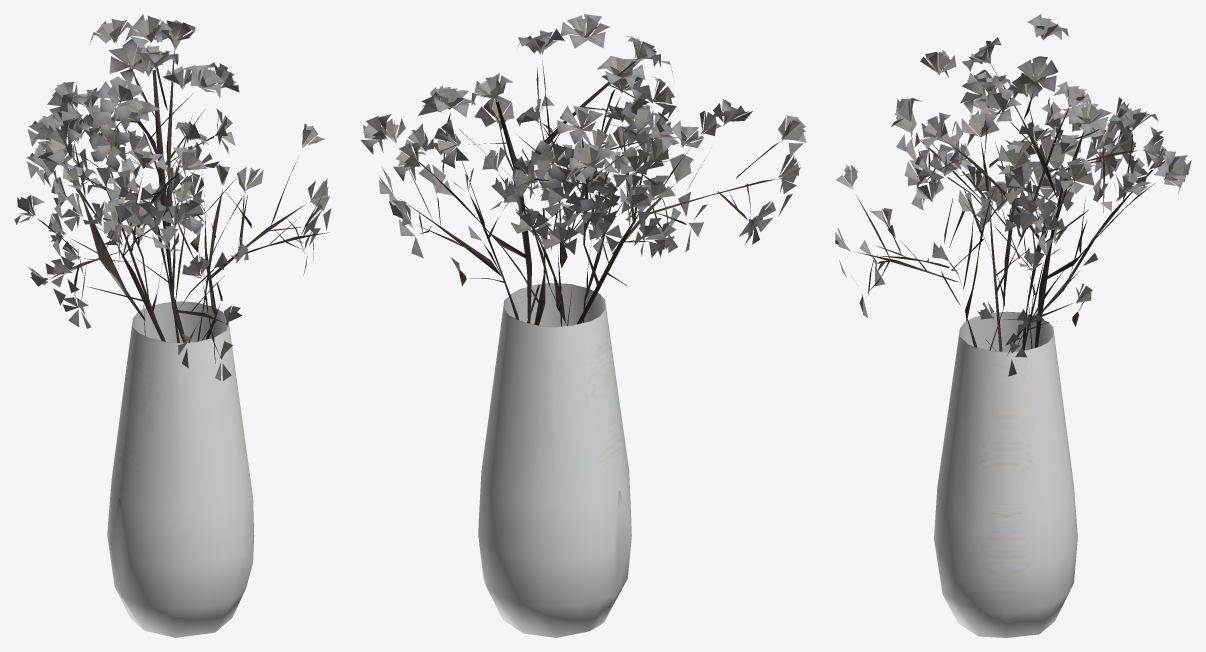
The model's file is Plant0022.obj.
3 renders of one model, left to right at view 1: azimuth 30°, elevation 25°; view 2: azimuth 150°, elevation 25°; view 3: azimuth 270°, elevation 25°, orthographic. The views are drawn at different scales.
Size of the model in its own units: 0.233 by 0.367 by 0.206.
Materials: 1 (1 with a texture image).
